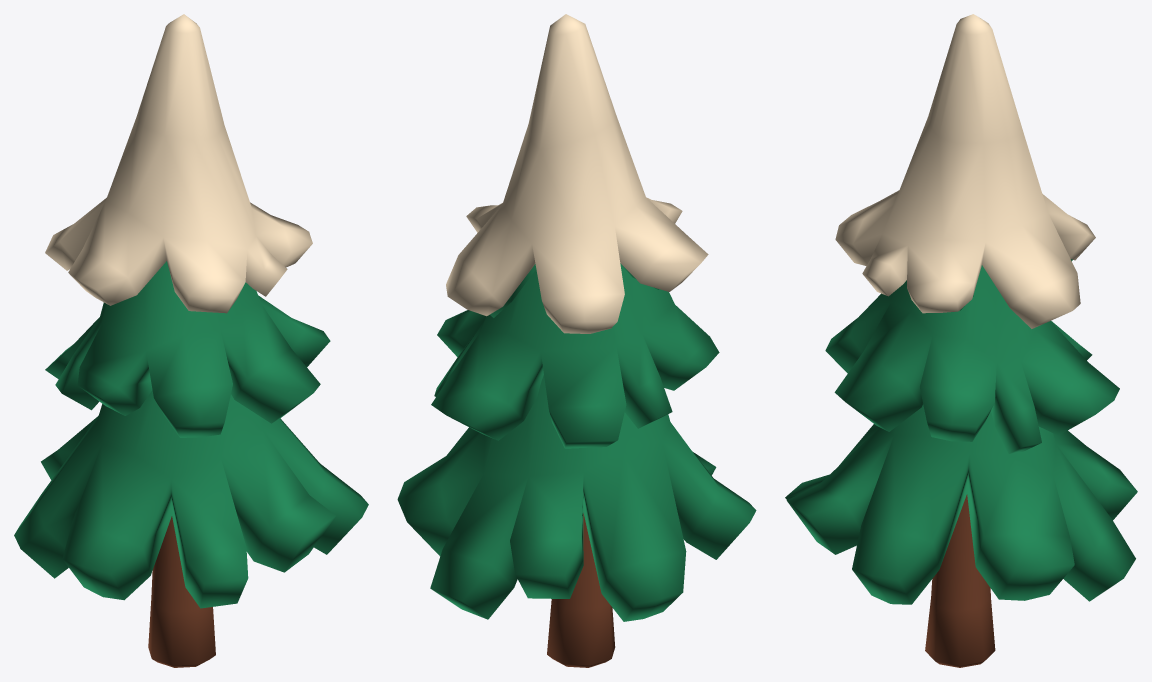
Rendered from treesnow2.fbx.
The picture shows the model from 3 angles, left to right: view 1: azimuth 30°, elevation 25°; view 2: azimuth 150°, elevation 25°; view 3: azimuth 270°, elevation 25°; orthographic projection.
Visible parts, largest first — view 1: Plane.006; view 2: Plane.006; view 3: Plane.006.
Part boxes in pixels (<box>): Plane.006: <box>14,14,368,667</box>; Plane.006: <box>397,14,756,667</box>; Plane.006: <box>785,14,1137,667</box>.
Bounding box in the file's own units: 46.49 × 96.74 × 47.9.
